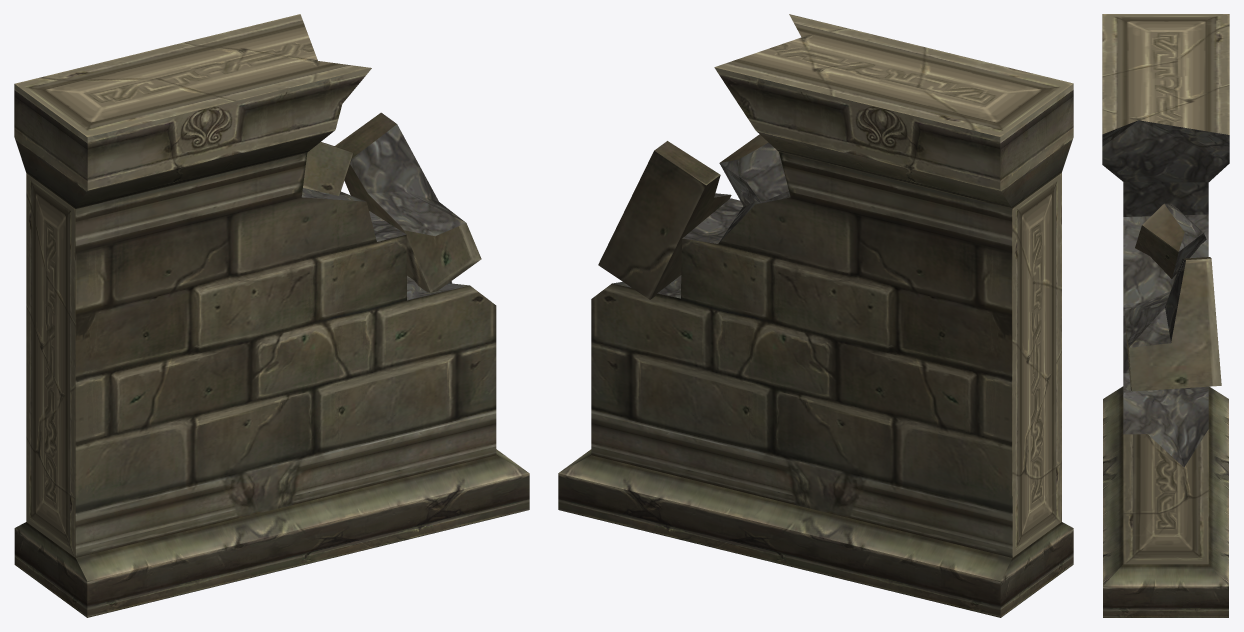
The model's file is F_neiqiang008.fbx.
3 views of the same model, side by side, from view 1: azimuth 30°, elevation 25°; view 2: azimuth 150°, elevation 25°; view 3: azimuth 270°, elevation 25° (orthographic). The views are drawn at different scales.
Parts seen in each view (by area): view 1: F_neiqiang008; view 2: F_neiqiang008; view 3: F_neiqiang008.
Part boxes in pixels (x1,y1,x2,y2): F_neiqiang008: [14, 14, 529, 617]; F_neiqiang008: [558, 14, 1073, 617]; F_neiqiang008: [1102, 14, 1229, 617].
Size of the model in its own units: 319 by 331 by 91.42.
